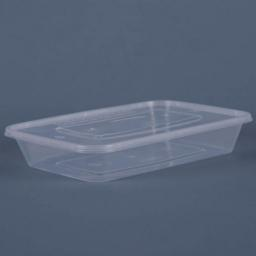Plastic: (6, 102, 253, 183)
